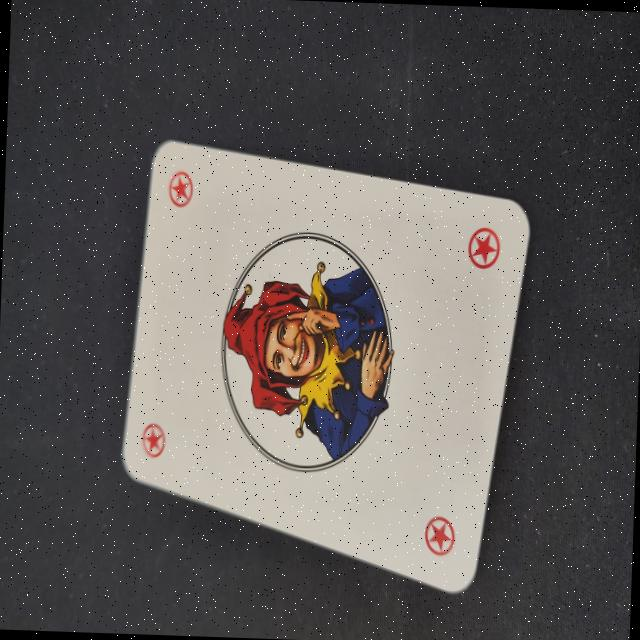J: (455, 210, 507, 276), (418, 504, 468, 560), (162, 162, 205, 217), (138, 416, 172, 462)
